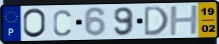6: (83, 6, 109, 39)
9: (113, 6, 135, 37)
C: (52, 9, 72, 37)
D: (143, 5, 170, 38)
H: (169, 4, 200, 37)
O: (22, 8, 48, 40)
